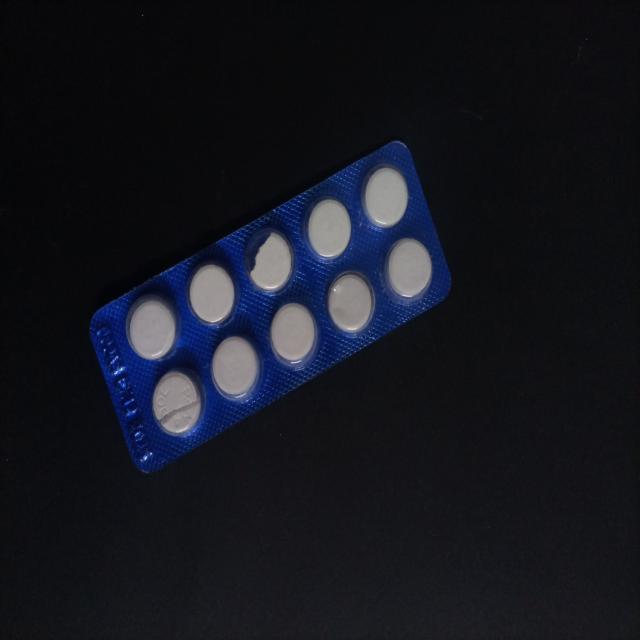defect: (150, 365, 207, 440), (241, 222, 297, 296)
